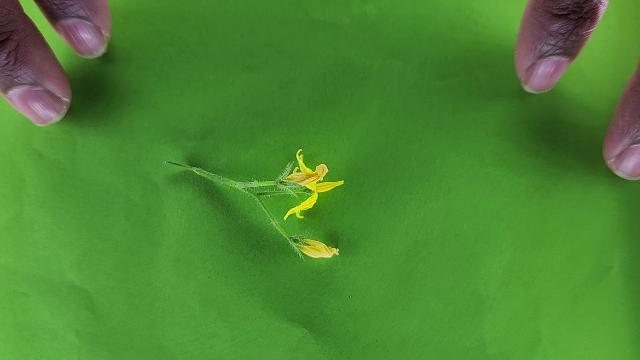Anthesis: (282, 150, 346, 221), (290, 235, 339, 258)
